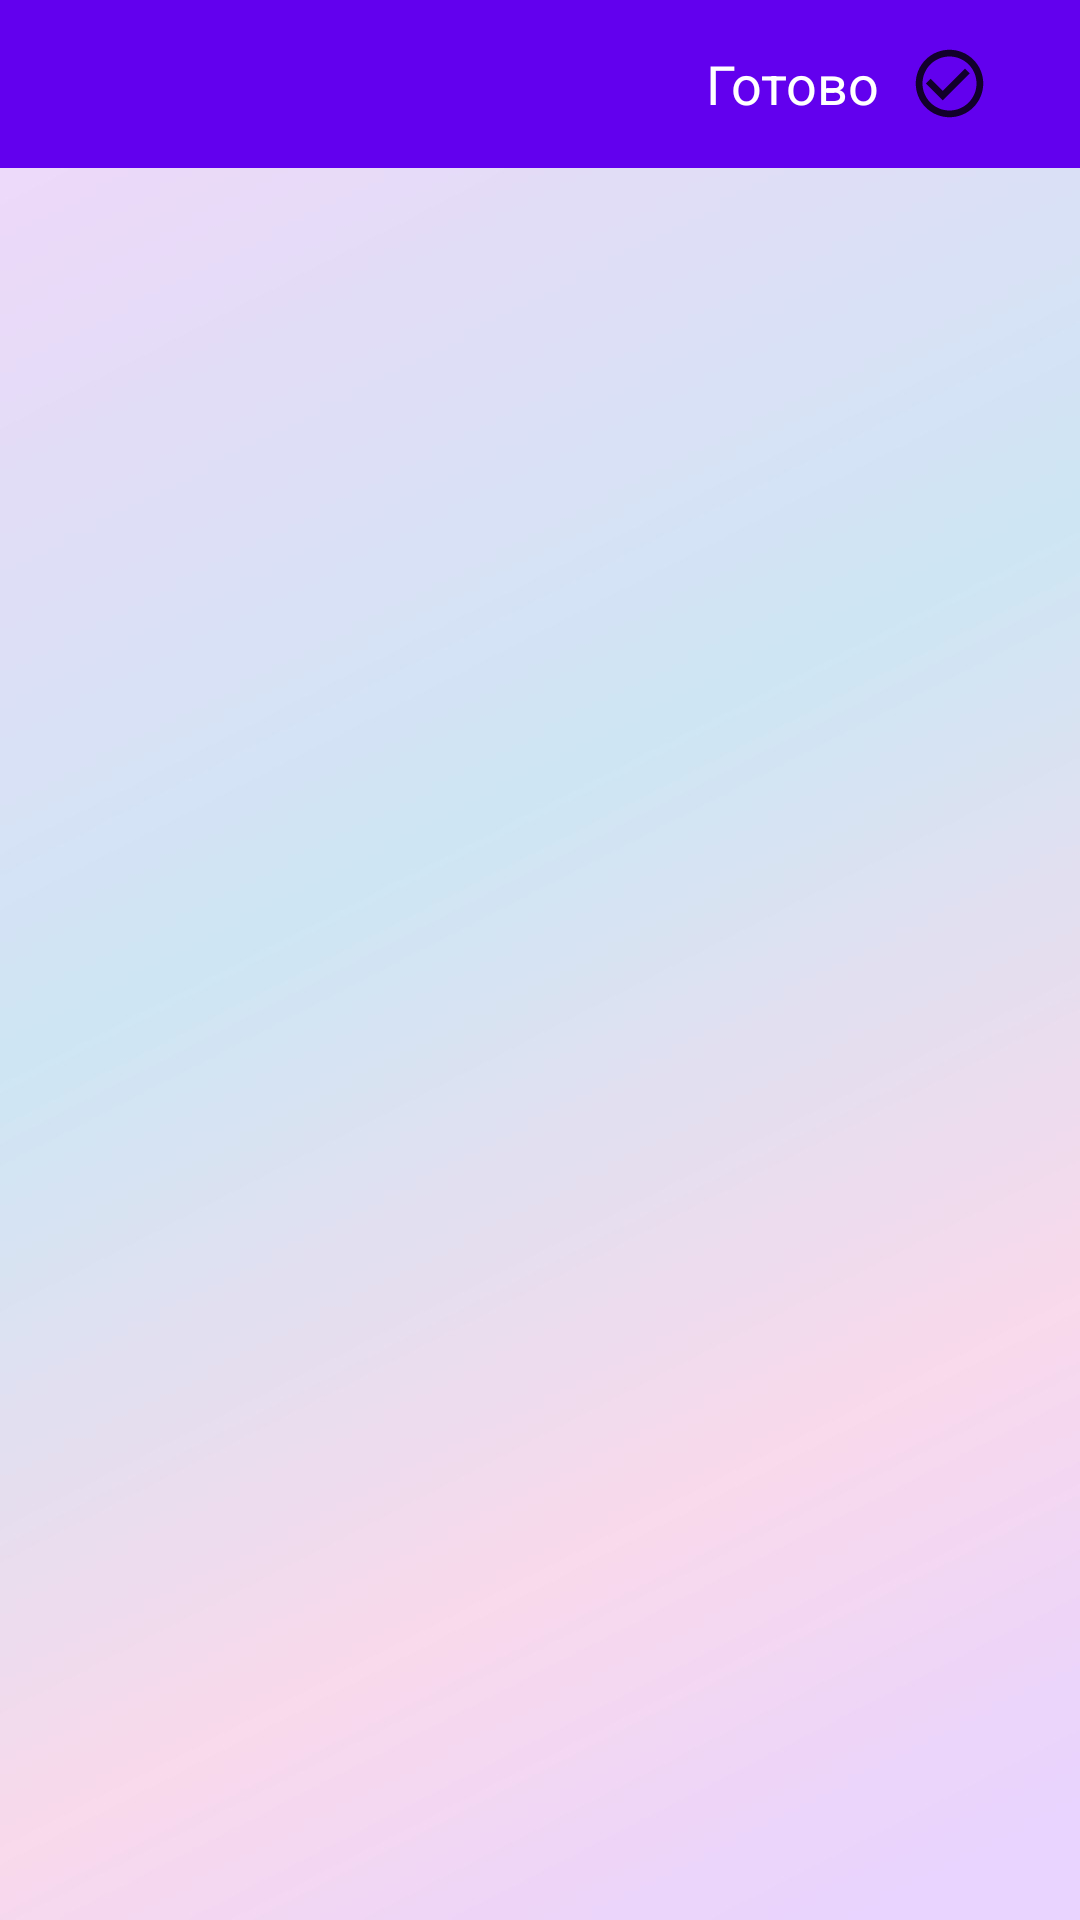

Screen size 1080×1920. Icon name, then its center in pixels as (x=x, y=y):
check circle: (x=949, y=83)
